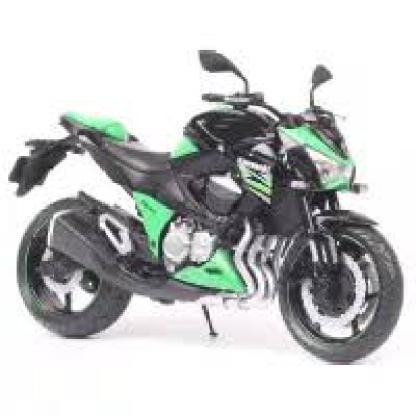Motorcycle: (10, 36, 409, 363)
